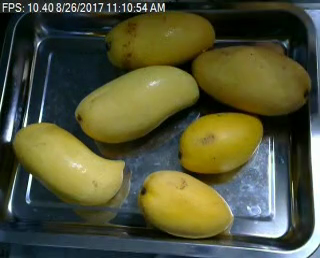Mango: (12, 121, 131, 211), (187, 42, 316, 119), (70, 63, 199, 139), (100, 4, 218, 70), (136, 167, 235, 236), (176, 109, 267, 175)
